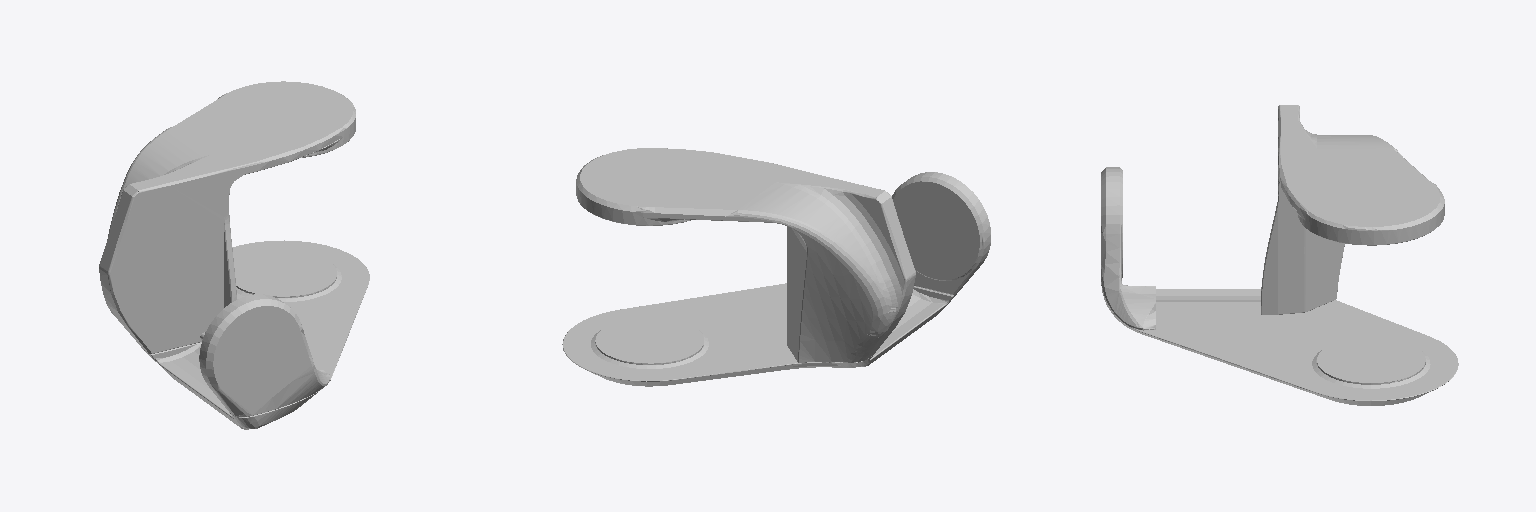
Rendered from right_hip_yaw.obj.
The picture shows the model from 3 angles: view 1: azimuth 30°, elevation 25°; view 2: azimuth 150°, elevation 25°; view 3: azimuth 270°, elevation 25°; orthographic projection.
Visible parts, largest first — view 1: RightHipYawLink; view 2: RightHipYawLink; view 3: RightHipYawLink.
Boxes of the visible parts, <box> form: RightHipYawLink: <box>99,81,369,429</box>; RightHipYawLink: <box>562,148,990,386</box>; RightHipYawLink: <box>1101,105,1458,405</box>.
Bounding box in the file's own units: 0.1934 × 0.1173 × 0.2021.